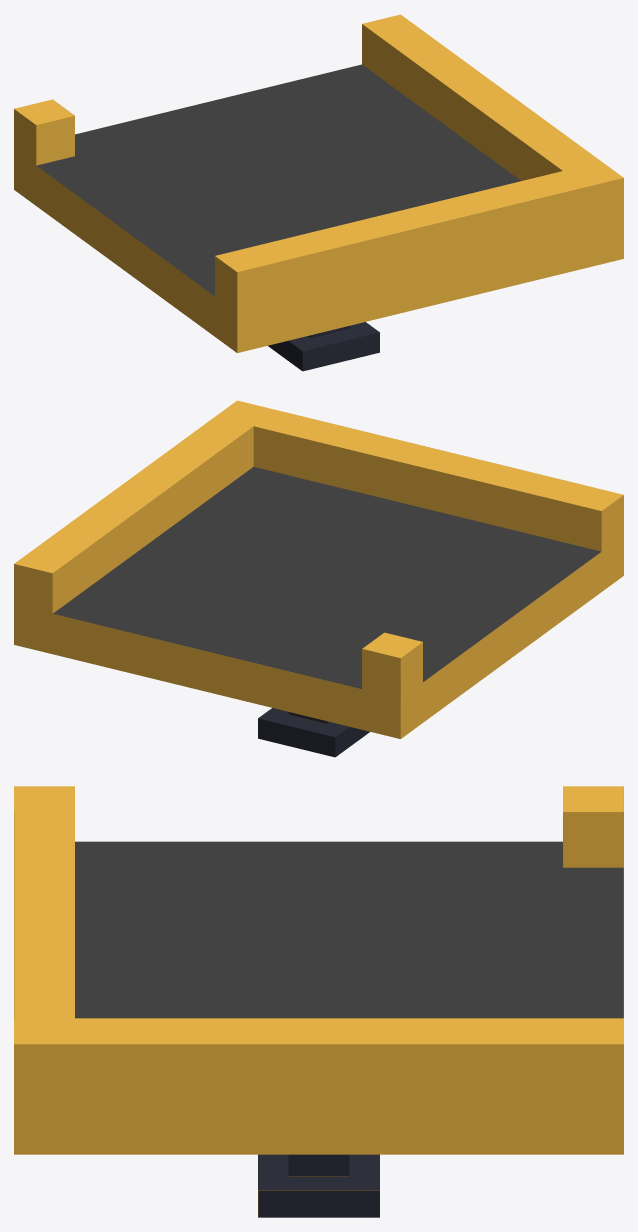
Rendered from C_C_Belt_V1.gltf.
3 renders of one model, top to bottom at view 1: azimuth 30°, elevation 25°; view 2: azimuth 150°, elevation 25°; view 3: azimuth 270°, elevation 25°, orthographic. The views are drawn at different scales.
Visible parts, largest first — view 1: Cube; view 2: Cube; view 3: Cube.
Boxes of the visible parts, left/top/right/bottom form: Cube: left=14, top=14, right=623, bottom=371; Cube: left=14, top=400, right=623, bottom=757; Cube: left=14, top=786, right=623, bottom=1217.
Bounding box in the file's own units: 1 × 0.5 × 1.
1 material, 1 textured.
